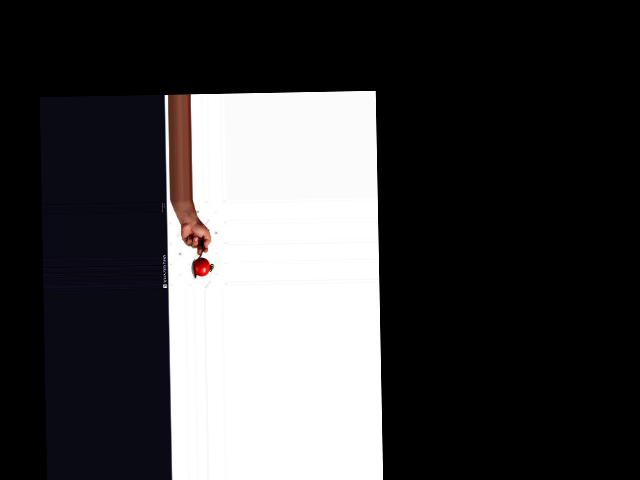tomato: (193, 257, 210, 276)
